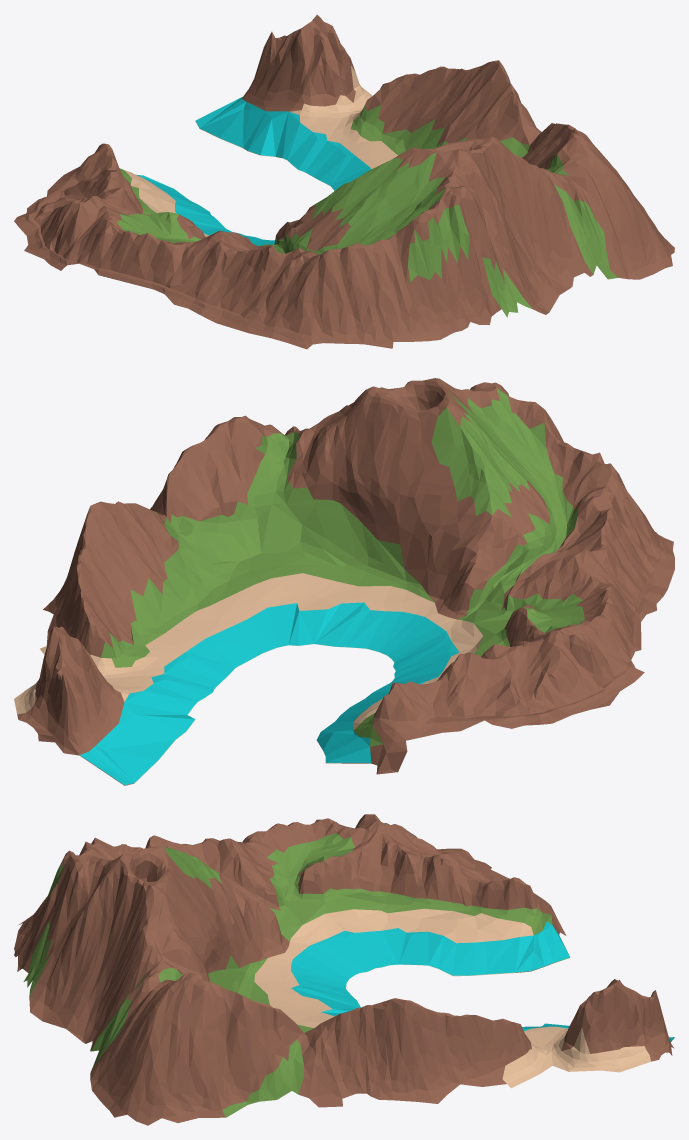
Rendered from Island.FBX.
3 renders of one model, top to bottom at view 1: azimuth 30°, elevation 25°; view 2: azimuth 150°, elevation 25°; view 3: azimuth 270°, elevation 25°, orthographic. The views are drawn at different scales.
Parts seen in each view (by area): view 1: TerrainMesh1; view 2: TerrainMesh1; view 3: TerrainMesh1.
Boxes of the visible parts, box(x1,y1,x2,y2) form: TerrainMesh1: box(14, 14, 674, 349); TerrainMesh1: box(14, 378, 674, 785); TerrainMesh1: box(14, 814, 674, 1125).
Bounding box in the file's own units: 3373 × 1106 × 3710.
